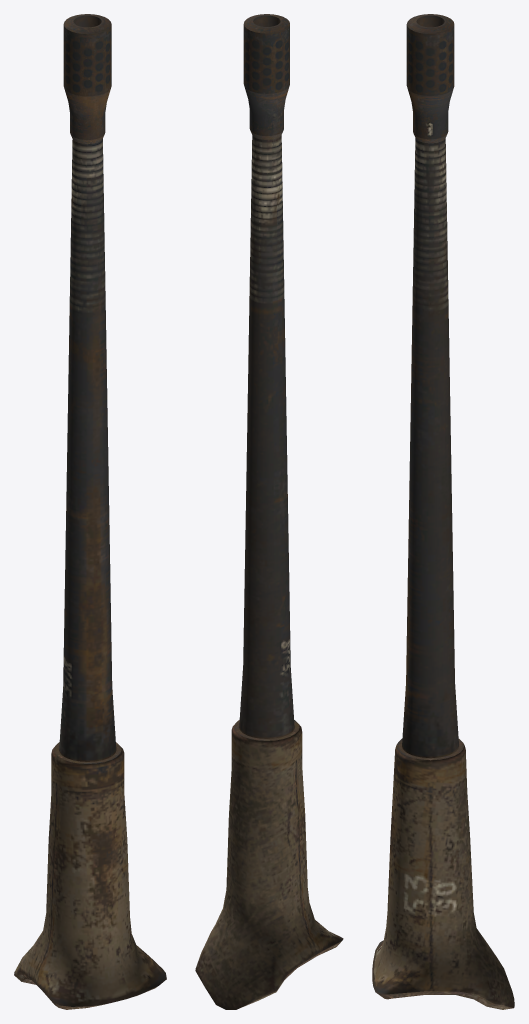
File: Gun_08.glb
The picture shows the model from 3 angles, left to right: view 1: azimuth 30°, elevation 25°; view 2: azimuth 150°, elevation 25°; view 3: azimuth 270°, elevation 25°; orthographic projection. The views are drawn at different scales.
Parts seen in each view (by area): view 1: set_0_group_0; view 2: set_0_group_0; view 3: set_0_group_0.
Part boxes in pixels (x1=…): set_0_group_0: x1=14, y1=14, x2=166, y2=1009; set_0_group_0: x1=195, y1=14, x2=343, y2=1009; set_0_group_0: x1=372, y1=14, x2=514, y2=1009.
Size of the model in its own units: 0.6214 by 5.16 by 0.6765.
Materials: 1 (1 with a texture image).
